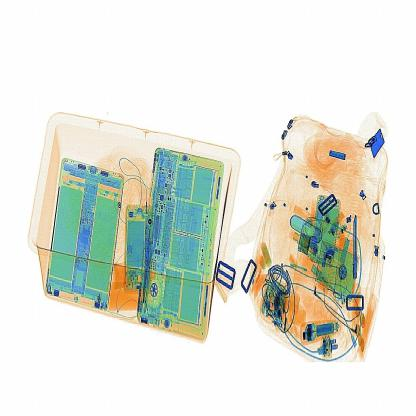pliers: (350, 214, 364, 284)
